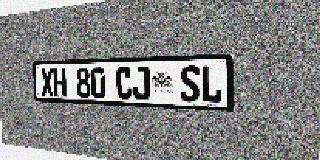0: (90, 67, 106, 99)
8: (76, 68, 91, 98)
C: (116, 67, 133, 100)
H: (53, 68, 67, 97)
J: (133, 67, 150, 100)
L: (201, 65, 222, 103)
S: (180, 65, 200, 102)
X: (41, 68, 54, 97)
